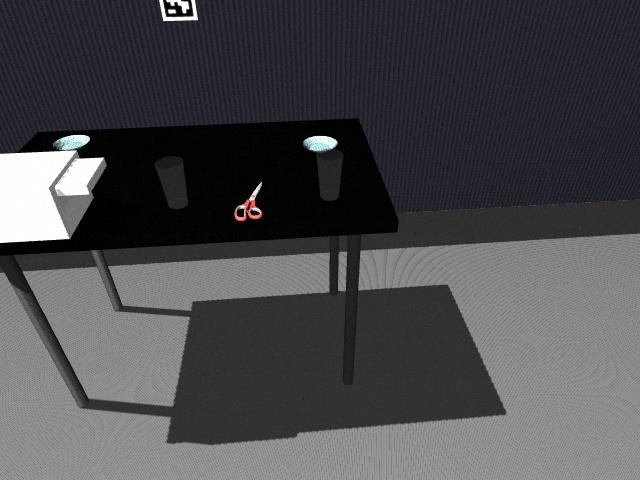cup: (155, 157, 188, 209), (316, 148, 343, 201)
plate: (302, 135, 339, 152), (52, 135, 91, 151)
scissors: (233, 180, 265, 222)
